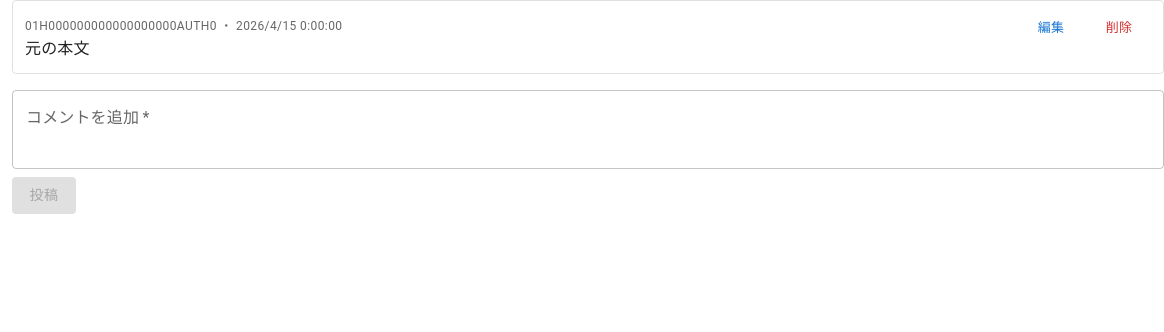
CommentThread comment editing › should enable 保存 when the trimmed draft differs from the content
This screenshot has width=1164, height=332.
Step 1. Click the button with aria-label "コメントを編集" → (1051,28), box [1019, 13, 1083, 44]
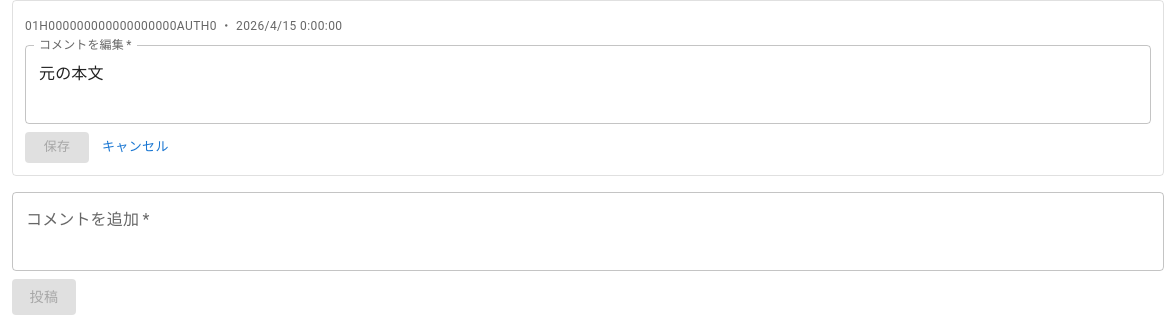
Step 2. Replace the text in the text box labelled "コメントを編集" with "修正した本文" → (588,84), box [39, 62, 1137, 108]
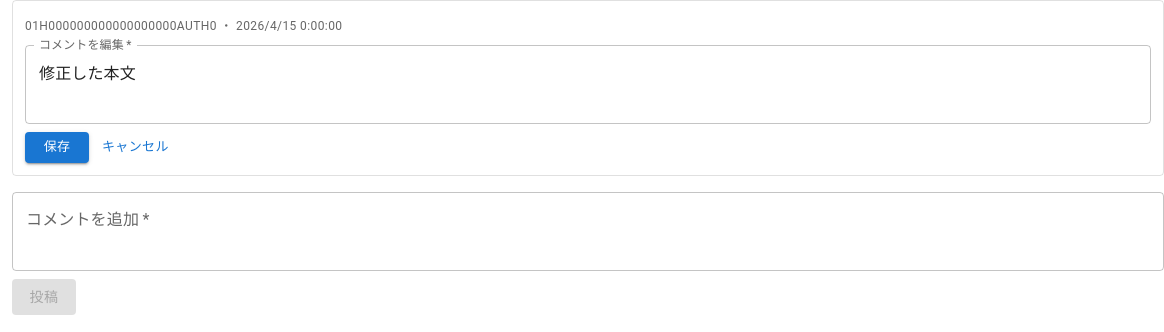
Result: the button "保存" is enabled at [25, 132, 89, 163]
